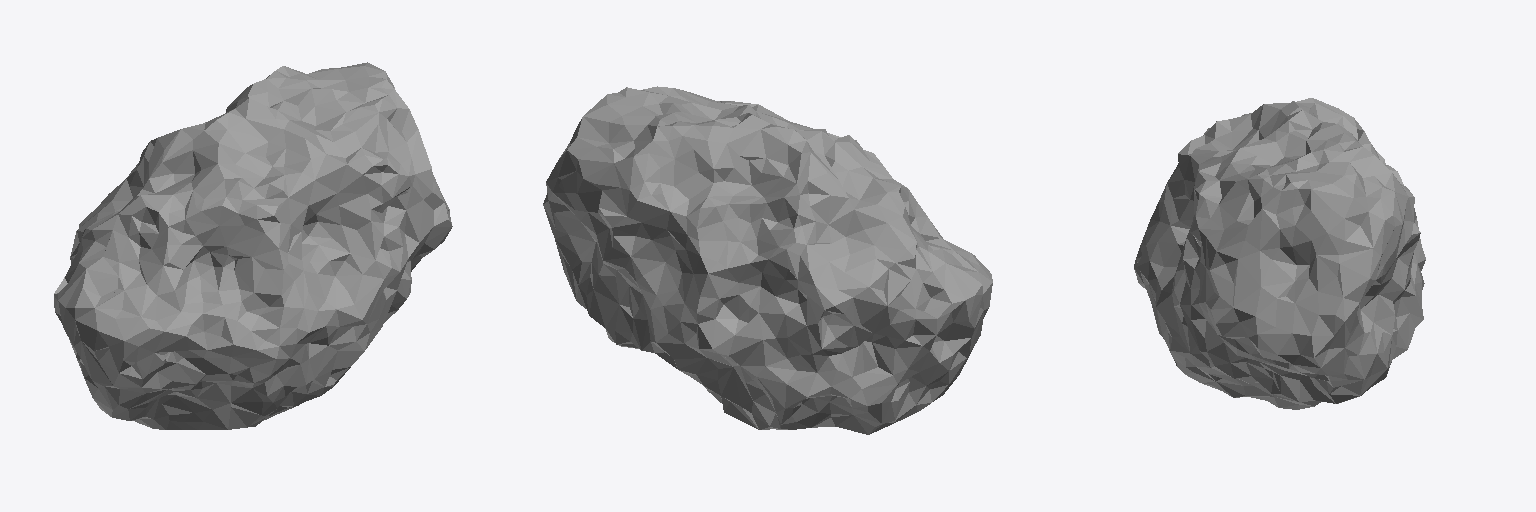
The model's file is asteroid.obj.
The picture shows the model from 3 angles: view 1: azimuth 30°, elevation 25°; view 2: azimuth 150°, elevation 25°; view 3: azimuth 270°, elevation 25°; orthographic projection.
Visible parts, largest first — view 1: ASTEROID_LOW_POLY_1__Cube.004; view 2: ASTEROID_LOW_POLY_1__Cube.004; view 3: ASTEROID_LOW_POLY_1__Cube.004.
Part boxes in pixels (left/top/right/bottom): ASTEROID_LOW_POLY_1__Cube.004: left=54, top=62, right=452, bottom=429; ASTEROID_LOW_POLY_1__Cube.004: left=543, top=86, right=992, bottom=434; ASTEROID_LOW_POLY_1__Cube.004: left=1134, top=98, right=1425, bottom=409.
Size of the model in its own units: 0.725 by 0.5171 by 0.4615.